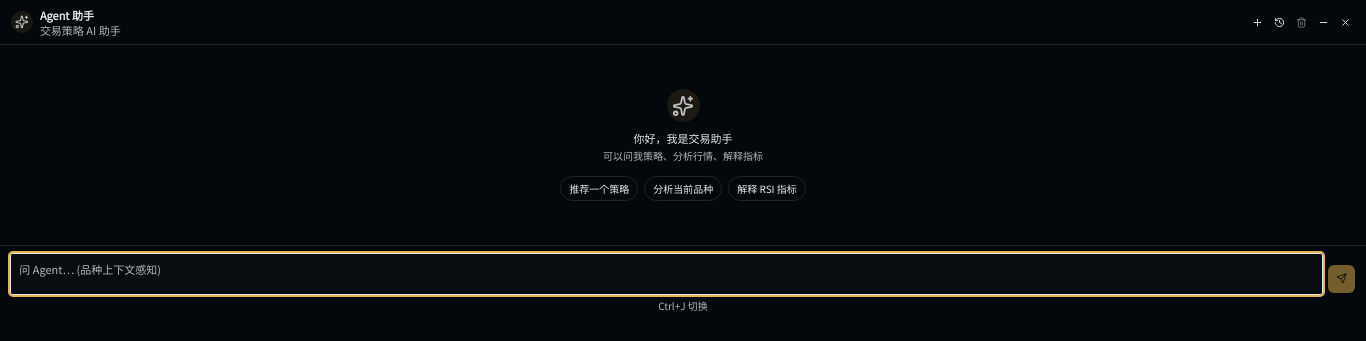
Scenario: AgentChatPanel — B0 工具确认门 UI(后端强制,模型不可自签) › 收到 tool_approval_request → 渲染琥珀色确认卡,展示工具名与参数,且同一 id 只渲染一张
Type "帮我买一手 BTC" into the text box with placeholder "问 Agent… (品种上下文感知)" at x=666, y=274, box left=11, top=254, right=1322, bottom=294
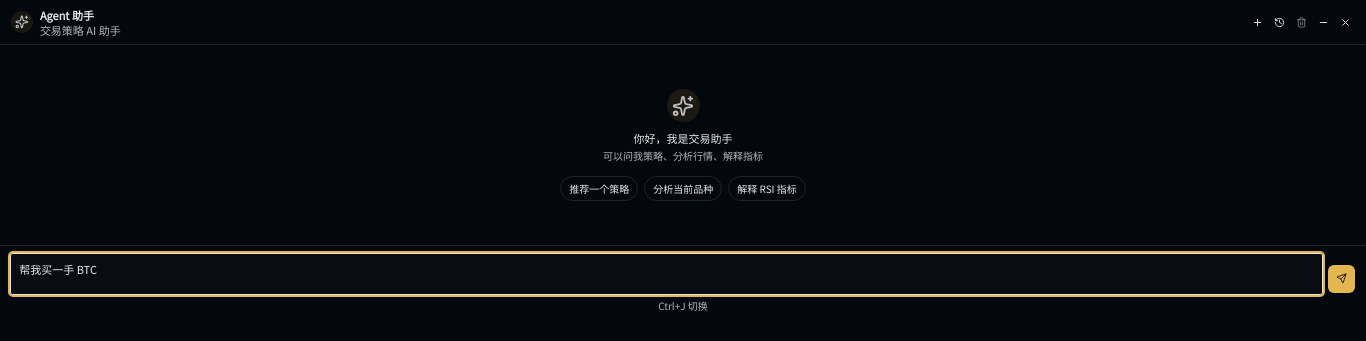
Press Enter in the text box with placeholder "问 Agent… (品种上下文感知)", box left=11, top=254, right=1322, bottom=294
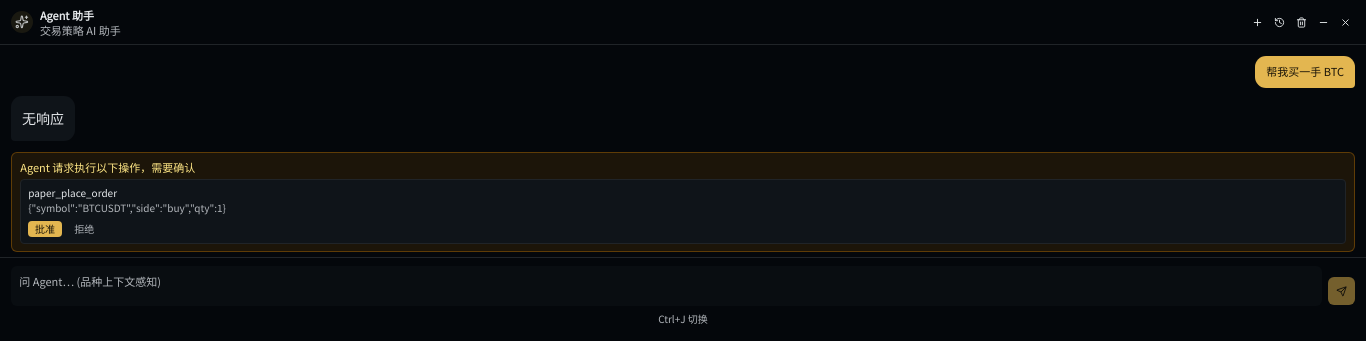
Now the text "Agent 请求执行以下操作，需要确认" is shown, box left=20, top=159, right=195, bottom=175
Now the text "paper_place_order" is shown, box left=28, top=185, right=117, bottom=200
Now the text "{\"symbol\":\"BTCUSDT\",\"side\":\"buy\",\"qty\":1}" is shown, box left=28, top=200, right=226, bottom=215
